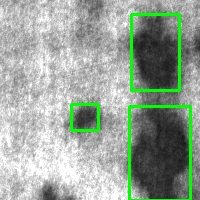patches: (129, 106, 190, 200), (131, 14, 179, 90), (71, 104, 98, 130)
